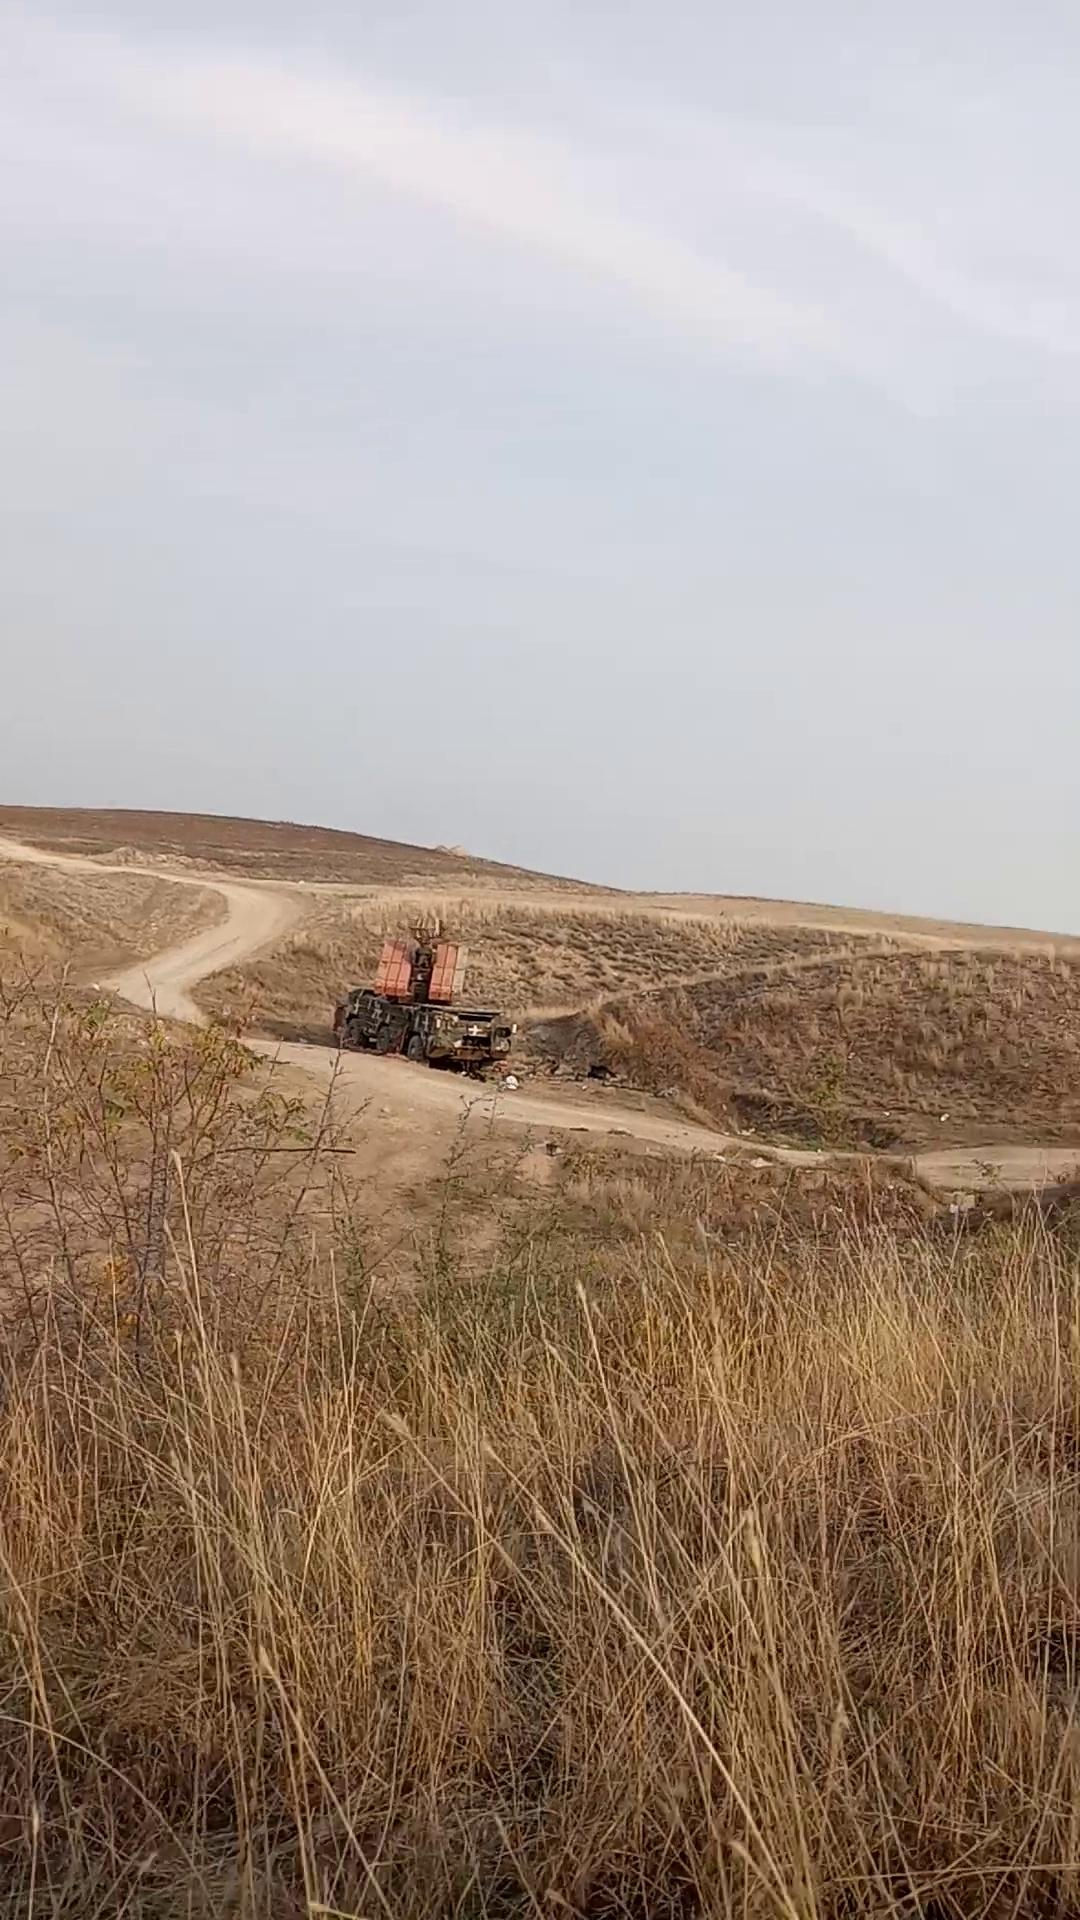MIL_SAM_TEL: (331, 913, 521, 1080)
